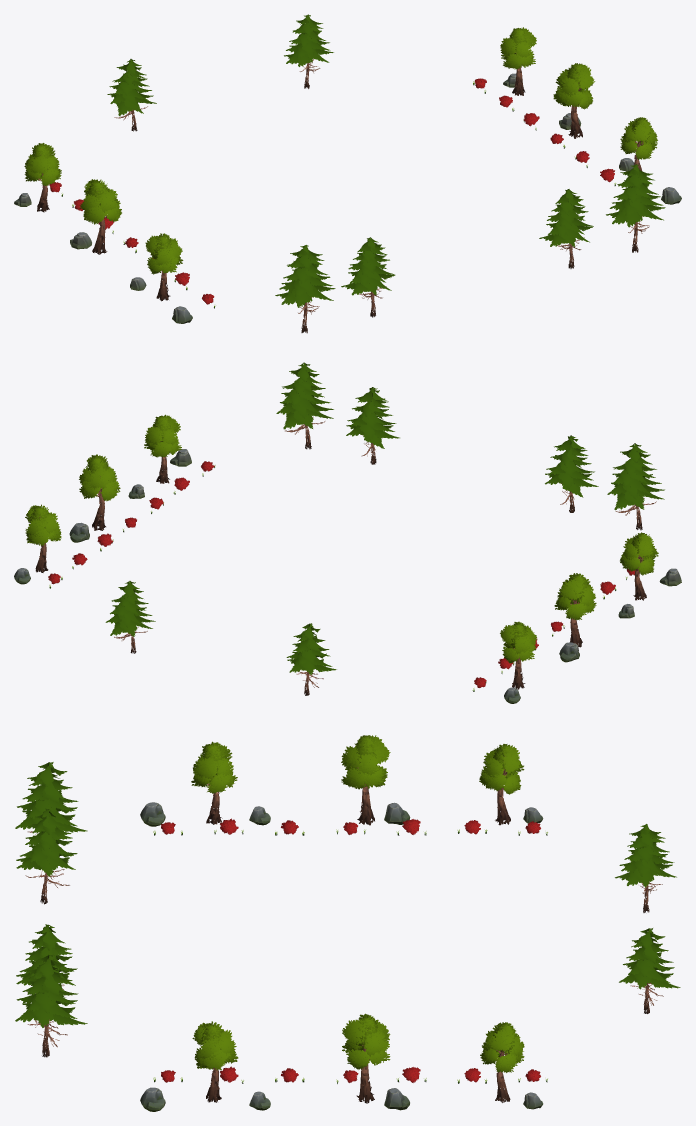
Rendered from plaza-planting.glb.
3 renders of one model, top to bottom at view 1: azimuth 30°, elevation 25°; view 2: azimuth 150°, elevation 25°; view 3: azimuth 270°, elevation 25°, orthographic. The views are drawn at different scales.
Visible parts, largest first — view 1: PlazaPlanting_Leaves_Pine, PlazaPlanting_Leaves_NormalTree, PlazaPlanting_Bark_NormalTree, PlazaPlanting_Rocks, PlazaPlanting_Leaves_TwistedTree; view 2: PlazaPlanting_Leaves_Pine, PlazaPlanting_Leaves_NormalTree, PlazaPlanting_Bark_NormalTree, PlazaPlanting_Rocks, PlazaPlanting_Leaves_TwistedTree; view 3: PlazaPlanting_Leaves_Pine, PlazaPlanting_Leaves_NormalTree, PlazaPlanting_Bark_NormalTree, PlazaPlanting_Rocks, PlazaPlanting_Leaves_TwistedTree.
Part boxes in pixels (<box>): PlazaPlanting_Leaves_Pine: <box>107,14,665,307</box>; PlazaPlanting_Leaves_NormalTree: <box>24,27,657,274</box>; PlazaPlanting_Bark_NormalTree: <box>37,54,649,333</box>; PlazaPlanting_Rocks: <box>14,73,681,323</box>; PlazaPlanting_Leaves_TwistedTree: <box>49,78,614,304</box>; PlazaPlanting_Leaves_Pine: <box>105,362,664,675</box>; PlazaPlanting_Leaves_NormalTree: <box>25,414,658,663</box>; PlazaPlanting_Bark_NormalTree: <box>35,417,656,695</box>; PlazaPlanting_Rocks: <box>14,449,681,703</box>; PlazaPlanting_Leaves_TwistedTree: <box>48,461,635,687</box>; PlazaPlanting_Leaves_Pine: <box>15,762,680,1027</box>; PlazaPlanting_Leaves_NormalTree: <box>191,735,524,1072</box>; PlazaPlanting_Bark_NormalTree: <box>25,756,663,1103</box>; PlazaPlanting_Rocks: <box>140,802,543,1111</box>; PlazaPlanting_Leaves_TwistedTree: <box>161,818,540,1082</box>.
Bounding box in the file's own units: 47.08 × 7.78 × 43.95.
6 materials, 6 textured.
